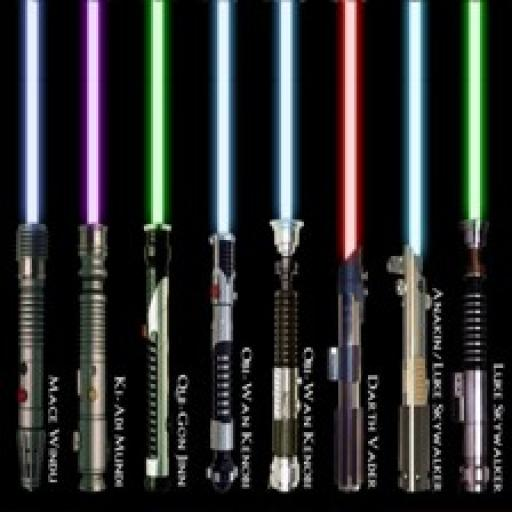lightsaber: (392, 0, 437, 494), (68, 2, 111, 498), (266, 0, 308, 495), (204, 0, 246, 491), (140, 0, 180, 492), (9, 0, 48, 491), (458, 0, 491, 497)
sith saber: (330, 0, 368, 489)
